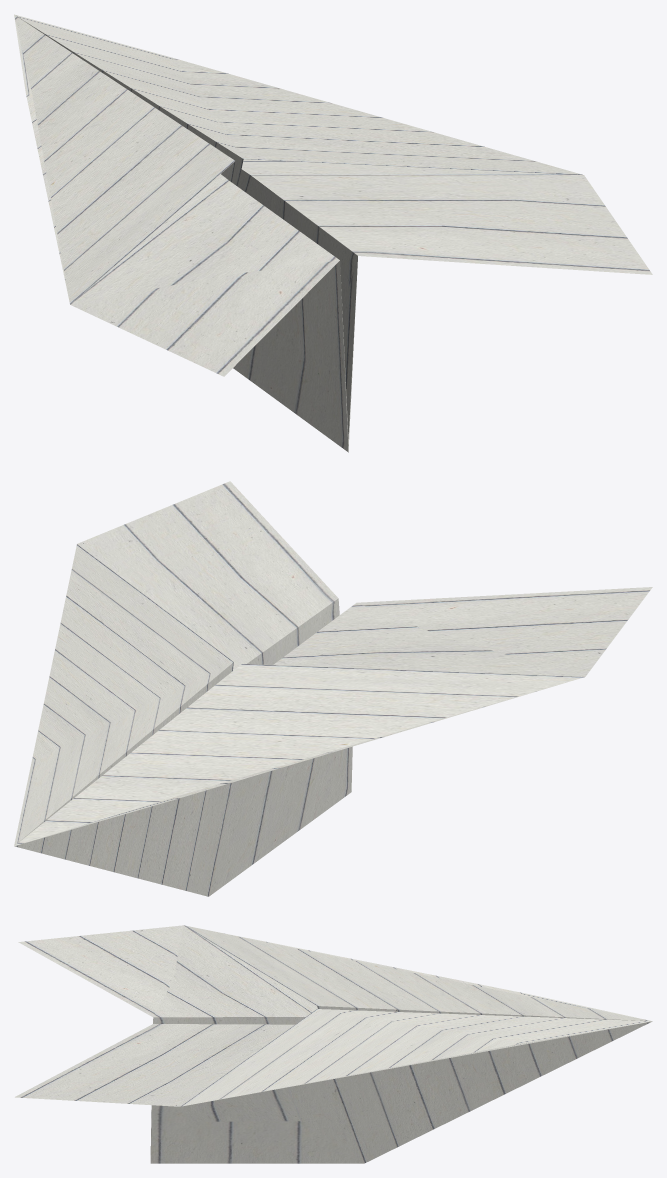
File: paper_plane_1.glb
The picture shows the model from 3 angles, top to bottom: view 1: azimuth 30°, elevation 25°; view 2: azimuth 150°, elevation 25°; view 3: azimuth 270°, elevation 25°; orthographic projection. The views are drawn at different scales.
Parts seen in each view (by area): view 1: Cube_0; view 2: Cube_0; view 3: Cube_0.
Part boxes in pixels (left/top/right/bottom): Cube_0: left=14, top=14, right=652, bottom=452; Cube_0: left=14, top=481, right=652, bottom=896; Cube_0: left=15, top=925, right=652, bottom=1163.
Bounding box in the file's own units: 2.1 × 0.8257 × 3.04.
Materials: 1 (1 with a texture image).
